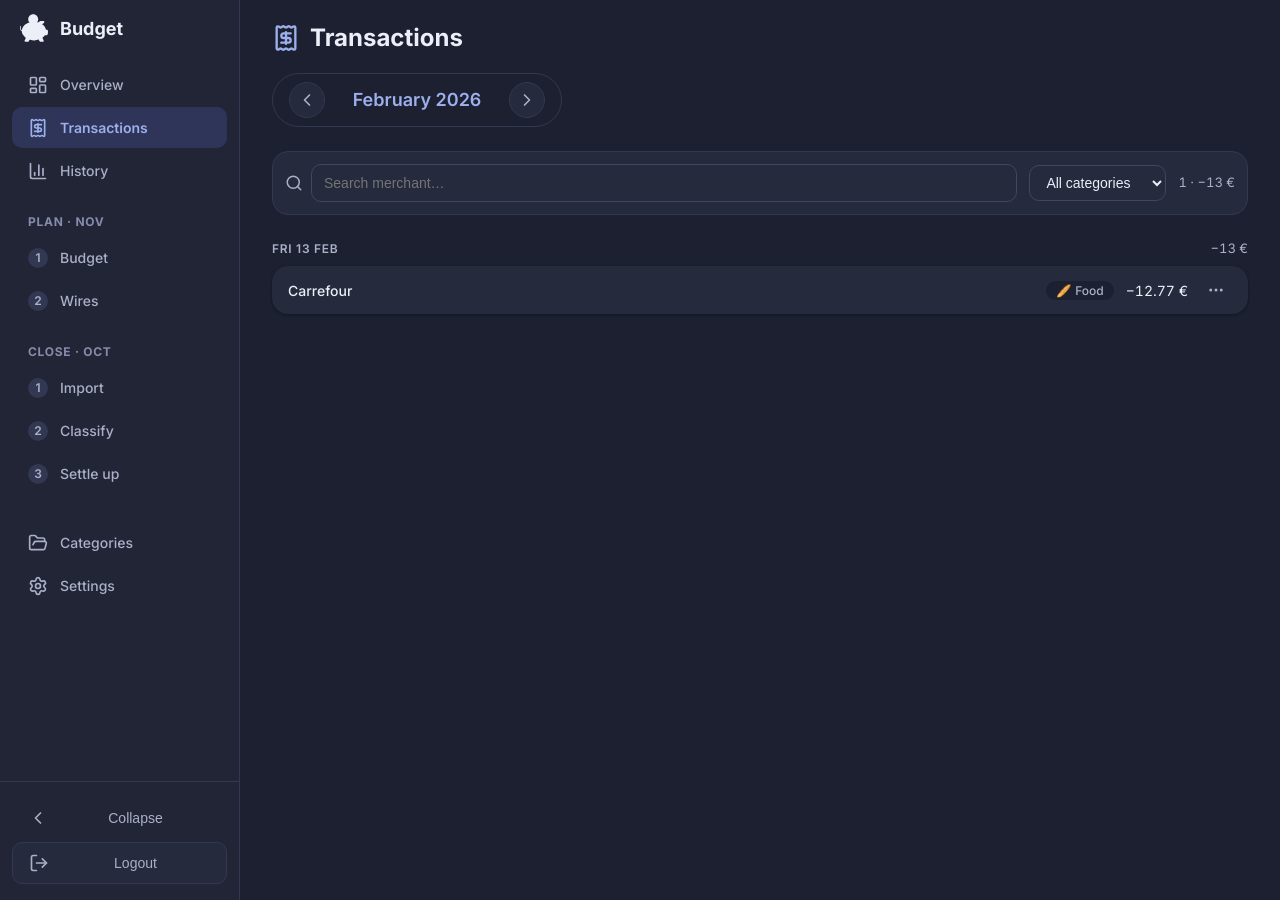
it: Transactions Page › should open the exclude modal from the menu
The image size is (1280, 900).
Click the button named "Actions for Carrefour" at (1216, 290), box [1200,274,1232,306]
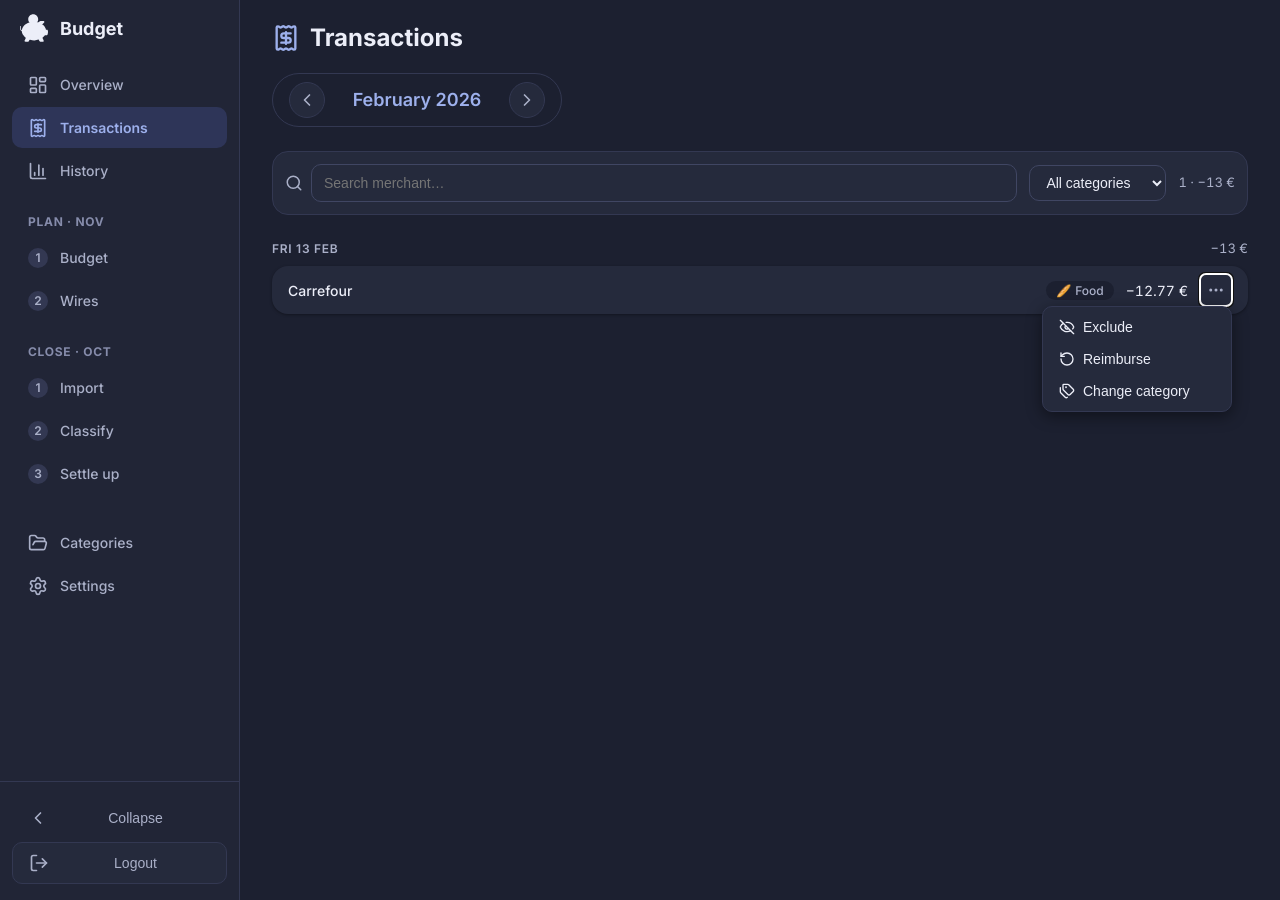
Click the menu item "Exclude" at (1137, 327), box [1047,311,1227,343]
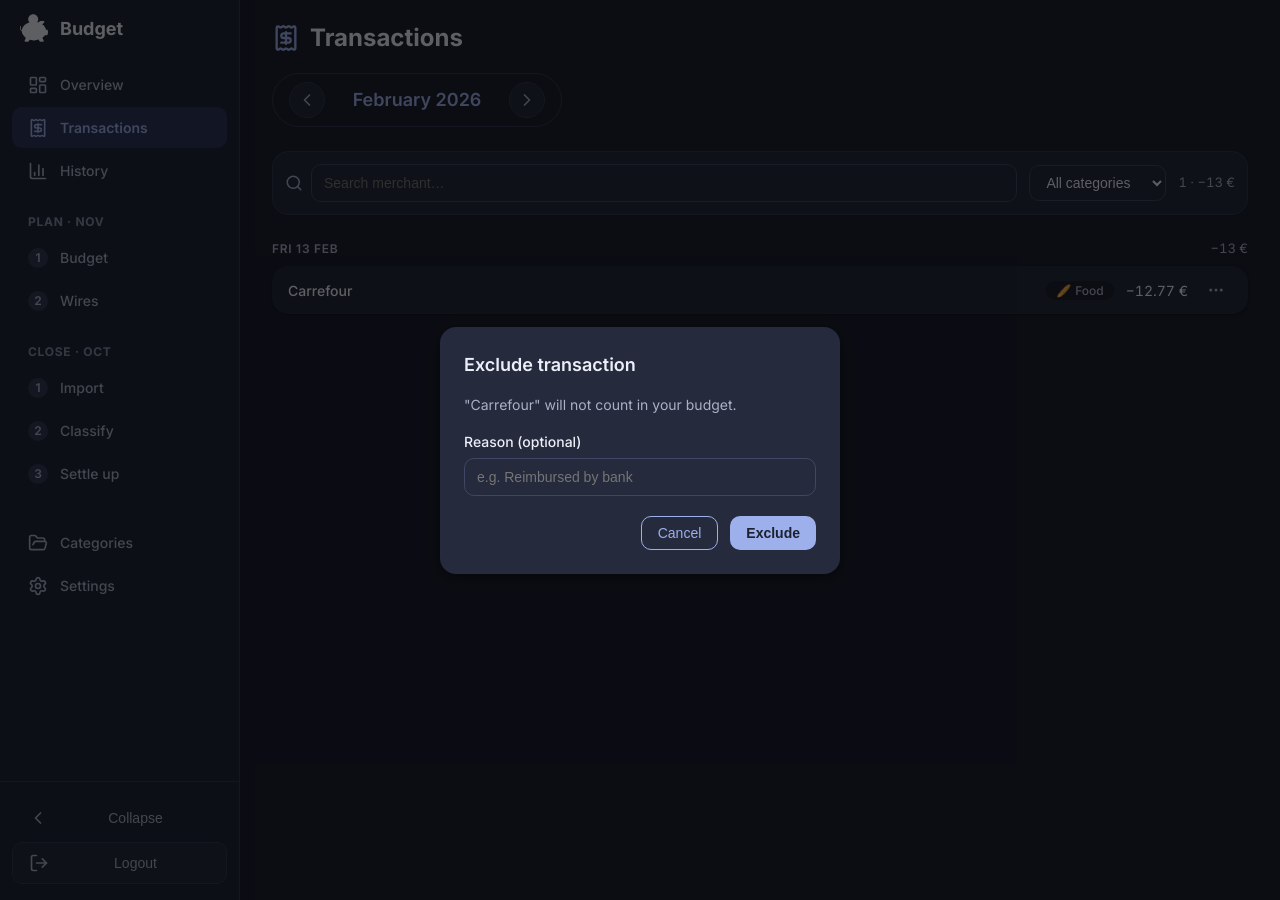
Expected: the heading "Exclude transaction" is shown, [464,354,636,374]
Expected: the field with placeholder "e.g. Reimbursed by bank" is shown, [464,458,816,496]
Expected: the button "Cancel" is shown, [641,516,718,550]
